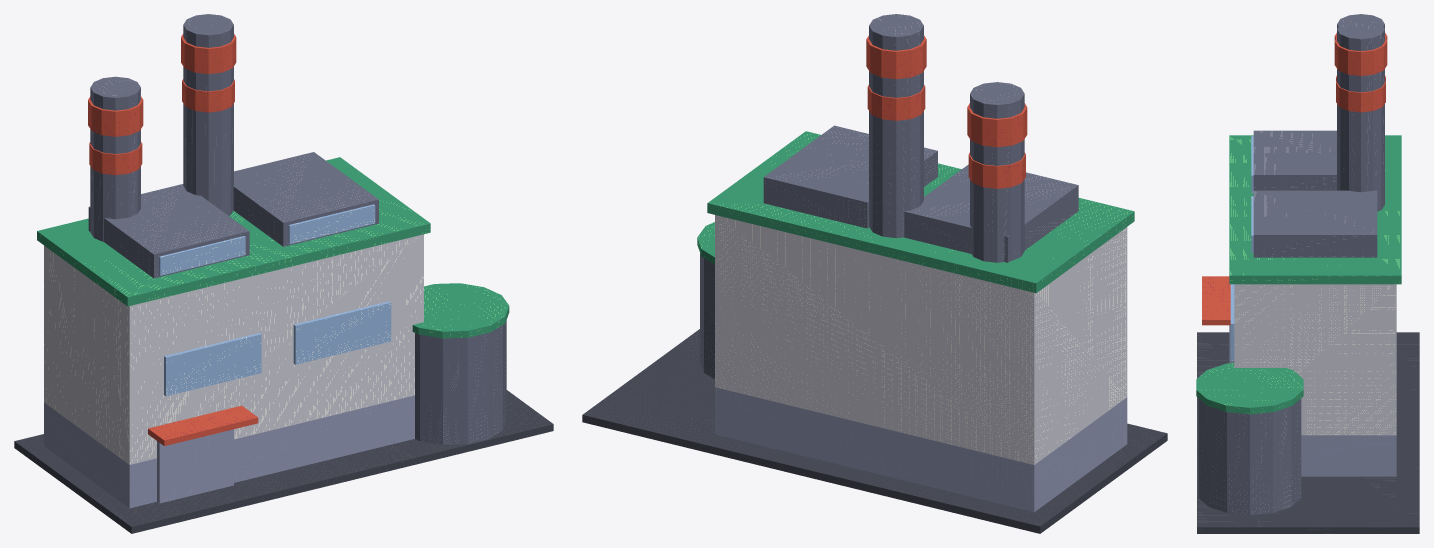
File: ind-2x1-l3.glb
3 views of the same model, side by side, from view 1: azimuth 30°, elevation 25°; view 2: azimuth 150°, elevation 25°; view 3: azimuth 270°, elevation 25° (orthographic). The views are drawn at different scales.
Visible parts, largest first — view 1: ind-2x1-l3; view 2: ind-2x1-l3; view 3: ind-2x1-l3.
Boxes of the visible parts, x1,y1,x2,y2 form: ind-2x1-l3: (14,14,553,533); ind-2x1-l3: (582,14,1167,533); ind-2x1-l3: (1196,14,1419,533).
Bounding box in the file's own units: 3.86 × 3.55 × 1.87.
1 material, 1 textured.
